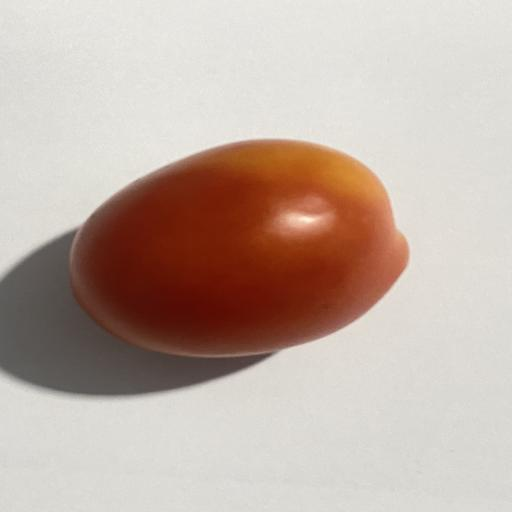ripe: (70, 140, 408, 357)
